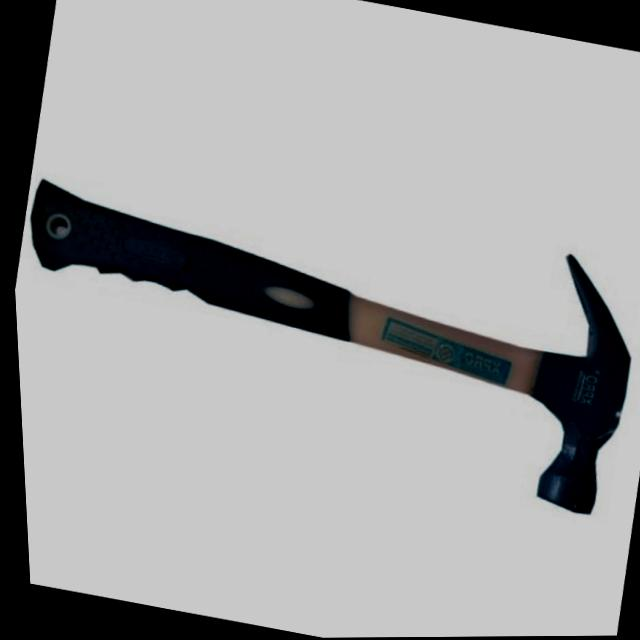hammer: (6, 141, 640, 530)
